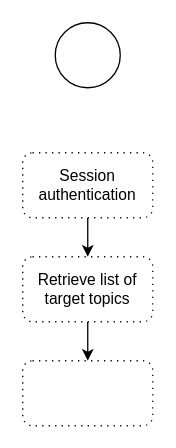
Some shapes in this 176 by 448 pixel diagram are drawn without their labels. The centre of each missing label's shape, as x and y in pixels:
"Incoming Event" goes at [87,54].
"Validate access to topics" goes at [87,392].
